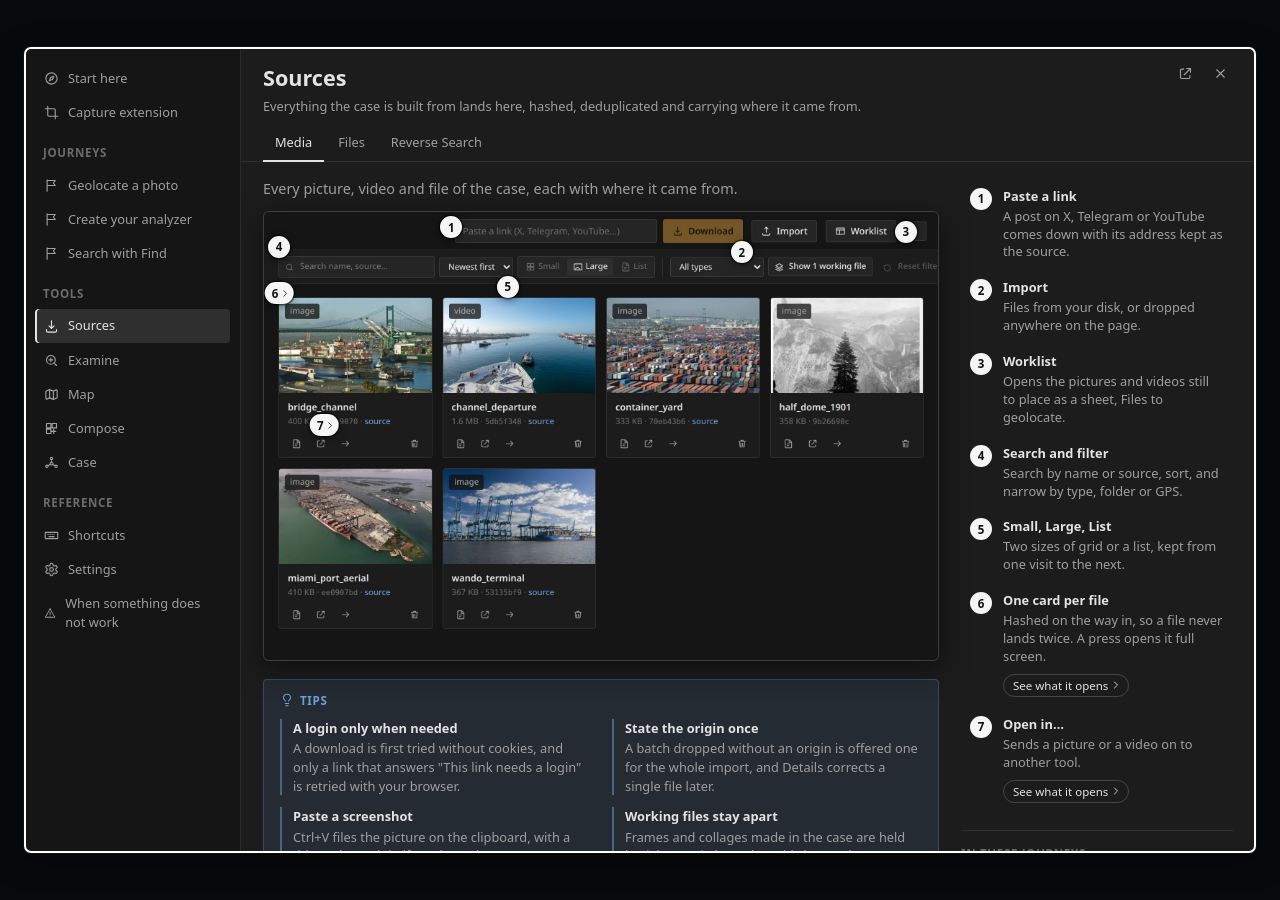
the guide over a tool › rings the control of the line being read, names it by its number and dims the rest
Hover over the button with class "mark" that starts with "Search and filter" at (1097, 473), box [961,437,1233,508]
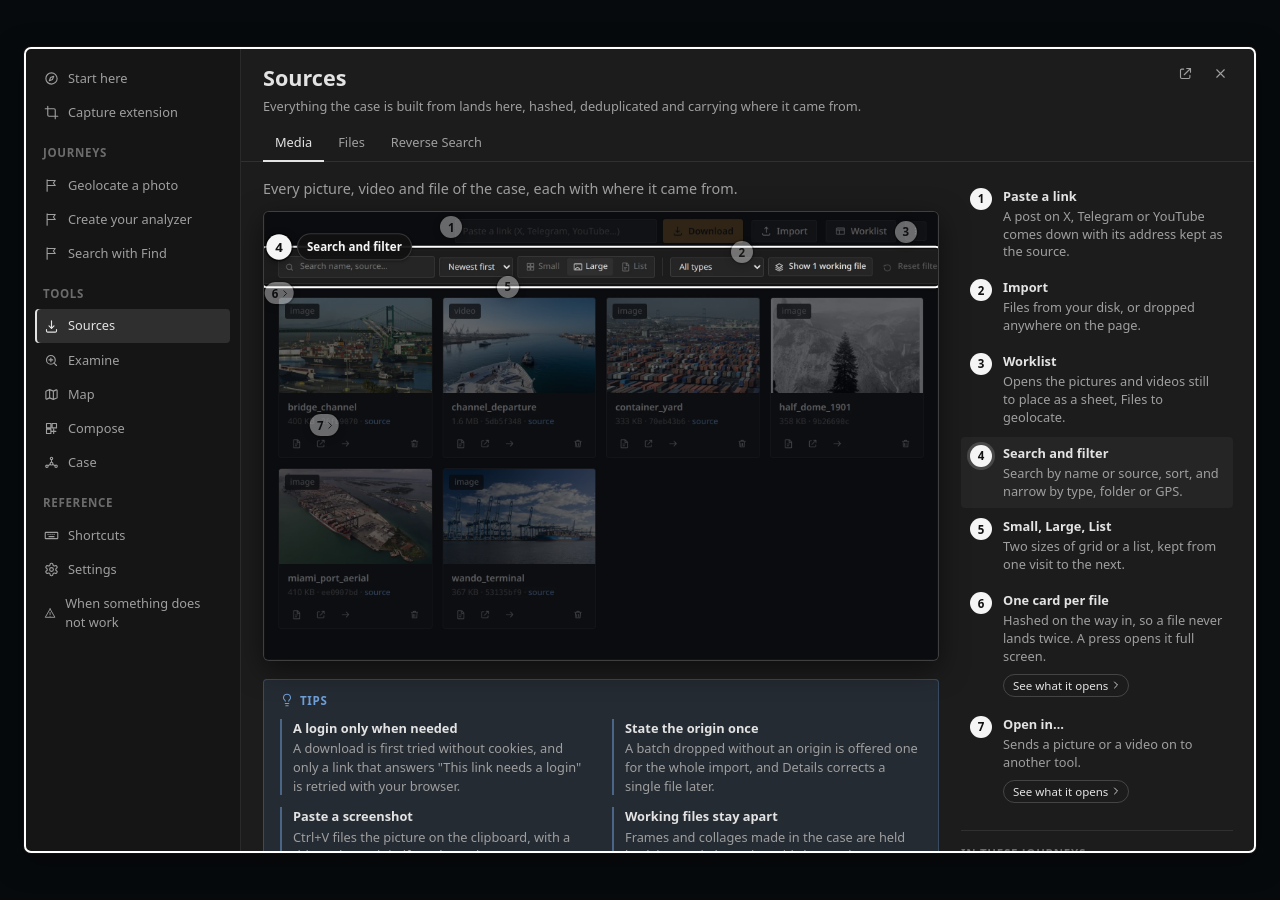
Check: the text with class "name" reads "Search and filter", box [307,239,402,254]
Move the pointer off the button with class "mark" that starts with "Search and filter", box [961,437,1233,508]
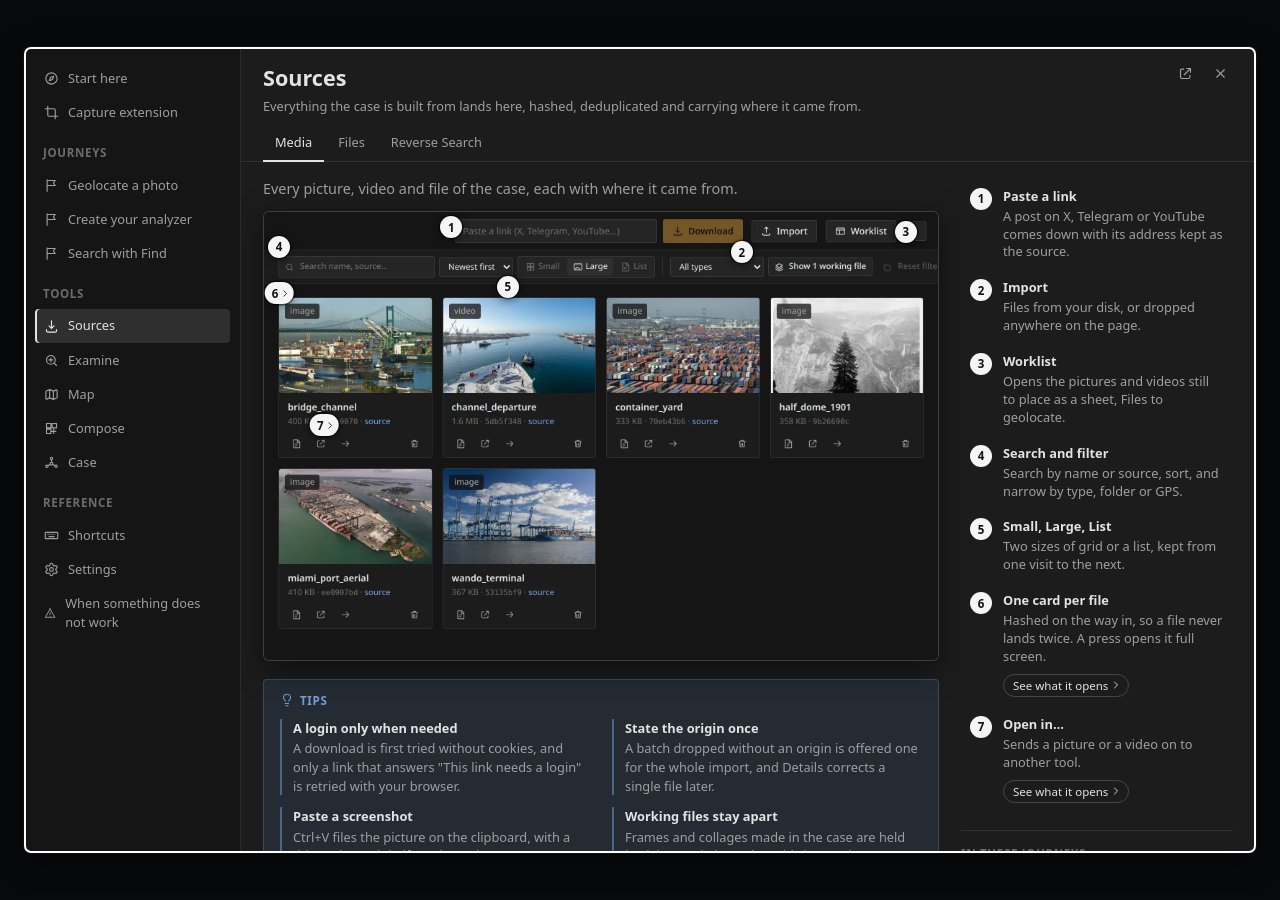
Check: the text with class "name" is gone
